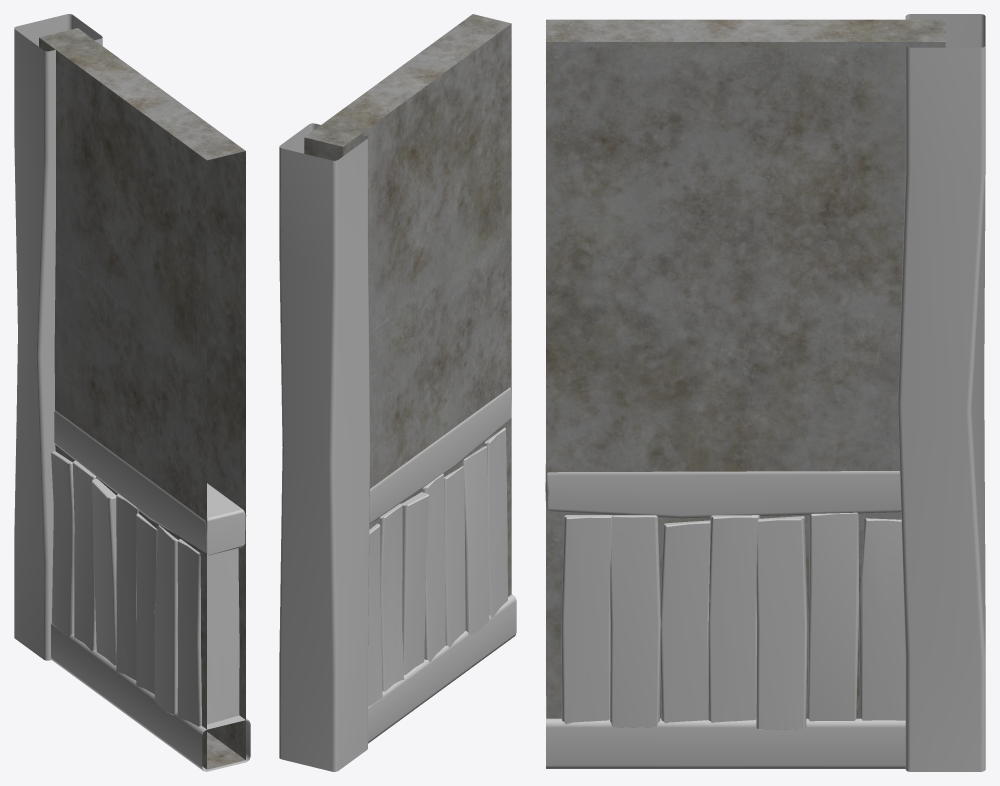
The model's file is SM_WallMedium14.fbx.
The picture shows the model from 3 angles, left to right: view 1: azimuth 30°, elevation 25°; view 2: azimuth 150°, elevation 25°; view 3: azimuth 270°, elevation 25°; orthographic projection. The views are drawn at different scales.
Visible parts, largest first — view 1: SM_WallMedium14_LOD0; view 2: SM_WallMedium14_LOD0; view 3: SM_WallMedium14_LOD0.
Part boxes in pixels (bbox=[...]): SM_WallMedium14_LOD0: bbox=[14, 14, 250, 771]; SM_WallMedium14_LOD0: bbox=[279, 14, 516, 771]; SM_WallMedium14_LOD0: bbox=[545, 14, 985, 771].
Size of the model in its own units: 33.65 by 165 by 301.
